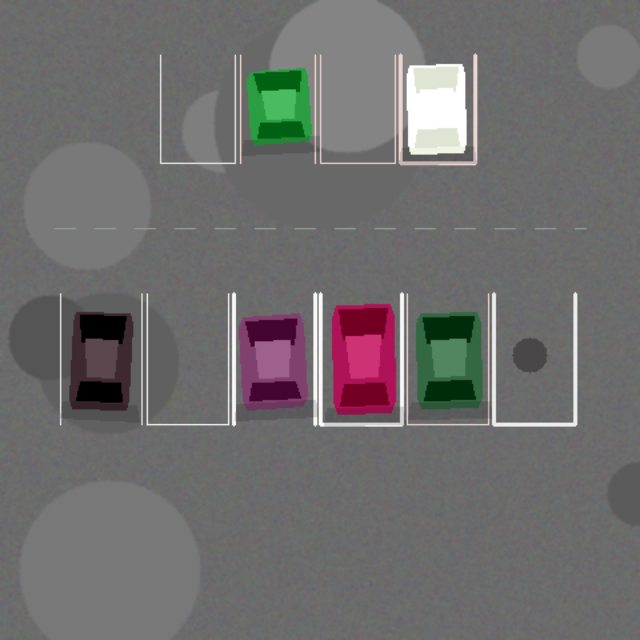space-empty: (493, 293, 575, 424), (147, 293, 228, 424), (160, 55, 235, 163), (320, 55, 395, 163)
space-occupied: (233, 293, 315, 424), (60, 293, 141, 424), (320, 293, 401, 424), (407, 293, 488, 424), (240, 55, 315, 163), (400, 55, 475, 163)
